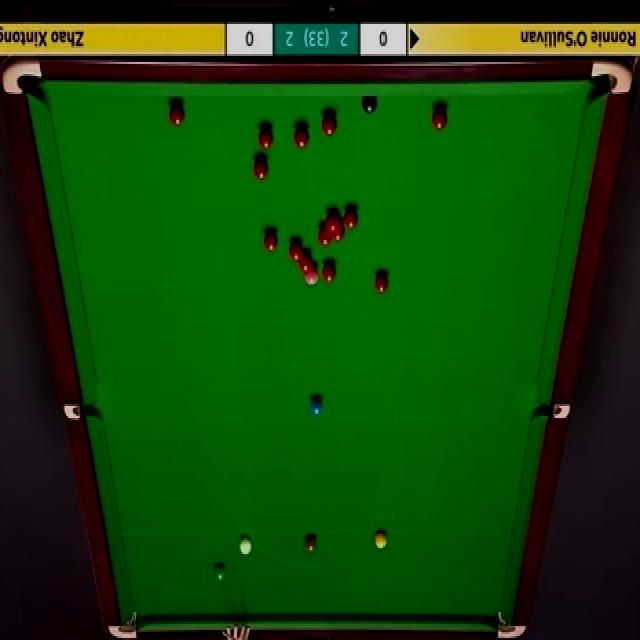black-ball: (361, 93, 378, 116)
blue-ball: (310, 396, 322, 415)
brown-ball: (305, 534, 318, 553)
green-ball: (212, 562, 227, 583)
pink-ball: (304, 266, 320, 288)
red-ball: (168, 100, 186, 128), (257, 124, 275, 152), (253, 155, 270, 182), (320, 112, 339, 136), (293, 125, 309, 152), (374, 270, 390, 296), (432, 107, 448, 132), (288, 236, 304, 261), (322, 261, 337, 285), (263, 229, 278, 253), (343, 208, 359, 230), (316, 225, 331, 248), (326, 211, 340, 235), (298, 254, 313, 272), (331, 225, 344, 243)
white-ball: (238, 536, 252, 558)
yellow-ball: (375, 530, 388, 552)
